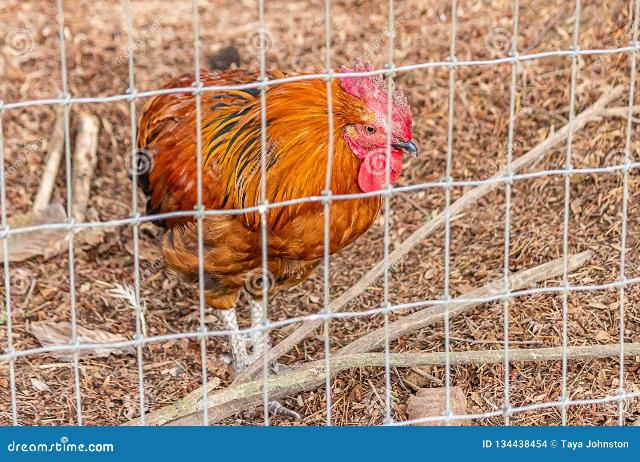Chicken: (136, 61, 420, 419)
